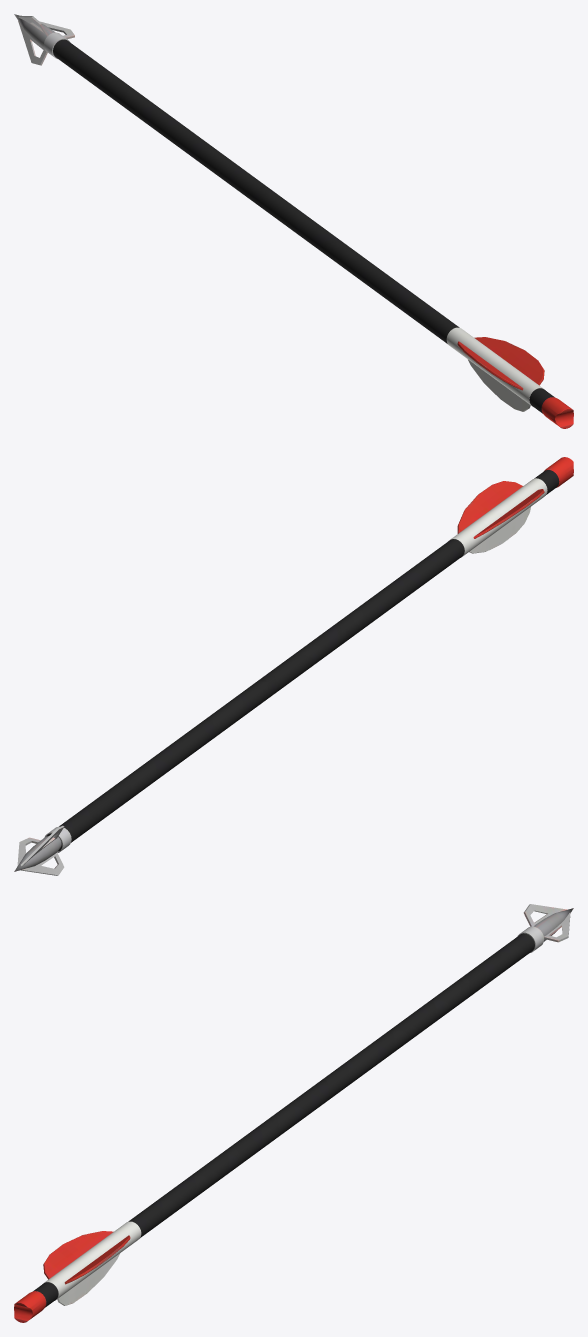
Rendered from virote_caca.glb.
The picture shows the model from 3 angles, top to bottom: view 1: azimuth 30°, elevation 25°; view 2: azimuth 150°, elevation 25°; view 3: azimuth 330°, elevation 25°; orthographic projection.
Parts seen in each view (by area): view 1: virote_caca_flecha; view 2: virote_caca_flecha; view 3: virote_caca_flecha.
Part boxes in pixels (x1,y1,x2,y2): virote_caca_flecha: (14, 14, 573, 428); virote_caca_flecha: (14, 457, 573, 875); virote_caca_flecha: (14, 904, 573, 1322).
Bounding box in the file's own units: 0.024 × 0.0241 × 0.462.
1 material, 1 textured.
